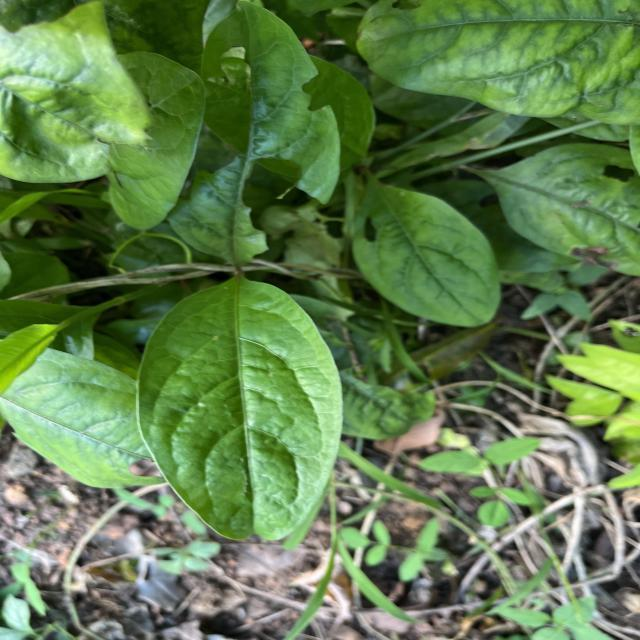Plumbago indica: (128, 270, 348, 544), (347, 0, 640, 127), (342, 178, 502, 331)
